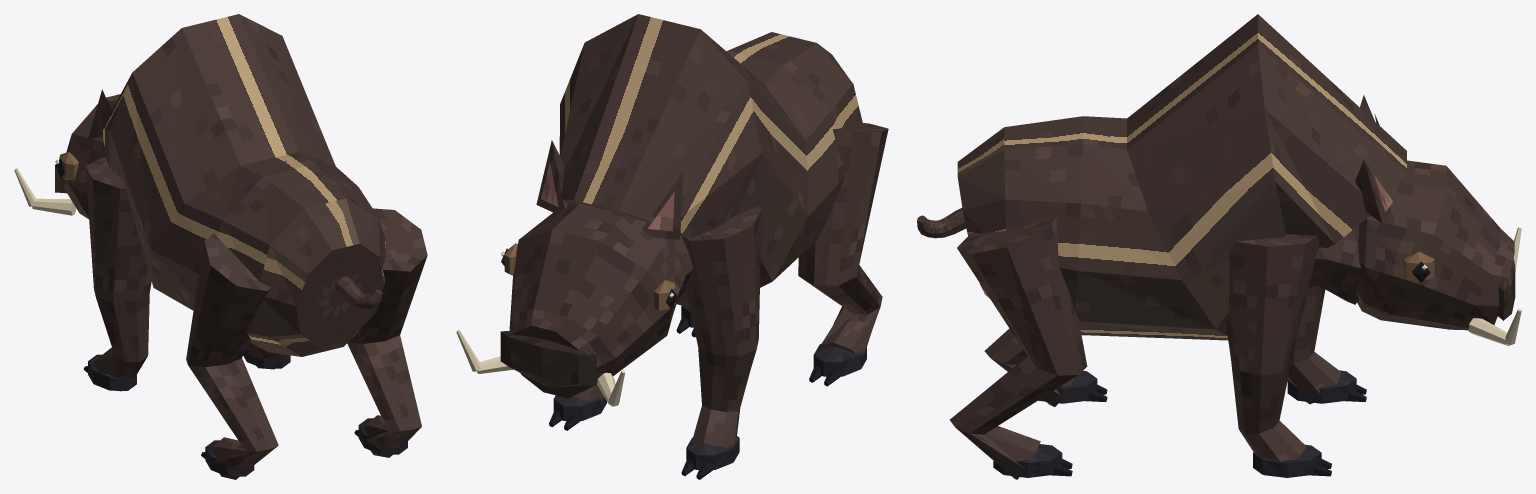
The model's file is mon_boar_wild_piglet.glb.
The picture shows the model from 3 angles, left to right: view 1: azimuth 30°, elevation 25°; view 2: azimuth 150°, elevation 25°; view 3: azimuth 270°, elevation 25°; orthographic projection. The views are drawn at different scales.
Visible parts, largest first — view 1: closed_body; view 2: closed_body; view 3: closed_body.
Part boxes in pixels (x1=…): closed_body: x1=14, y1=14, x2=427, y2=479; closed_body: x1=456, y1=14, x2=888, y2=479; closed_body: x1=917, y1=14, x2=1521, y2=479.
Bounding box in the file's own units: 0.2629 × 0.4817 × 0.6398.
1 material, 1 textured.
